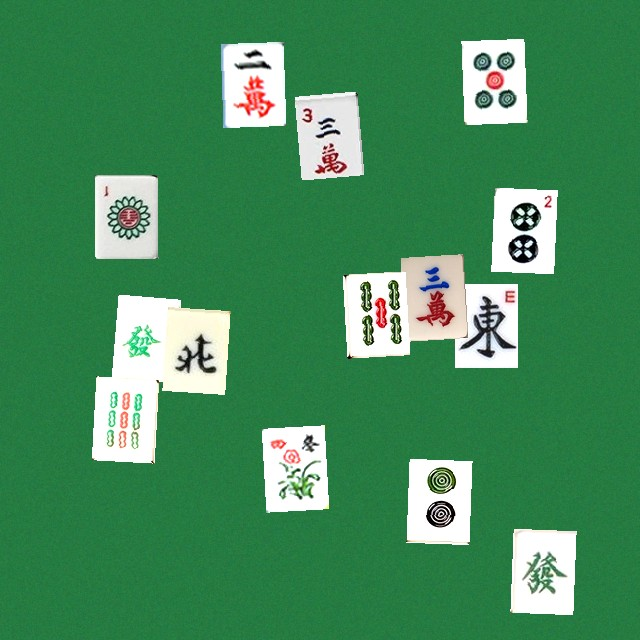tile: (220, 41, 283, 125), (261, 425, 324, 509), (454, 283, 517, 367), (461, 38, 524, 122), (111, 294, 174, 378), (294, 91, 357, 175), (406, 458, 469, 542), (400, 254, 463, 338), (91, 376, 154, 460), (342, 271, 405, 355), (162, 307, 225, 391), (510, 528, 573, 612), (491, 187, 554, 271), (94, 174, 157, 258)
